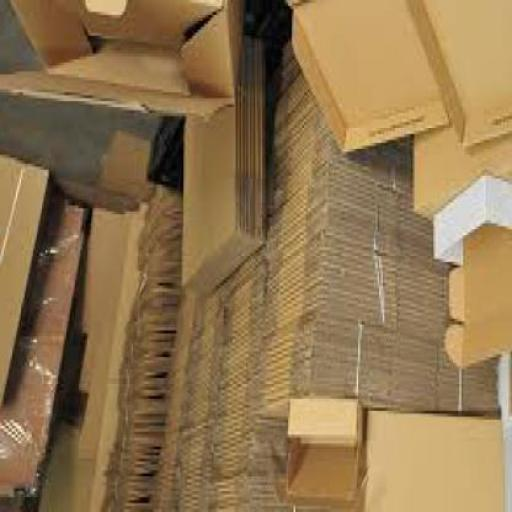cardboard: (2, 4, 247, 122), (252, 318, 502, 429), (2, 197, 90, 500), (105, 191, 182, 511), (294, 3, 452, 155), (266, 42, 416, 196), (186, 39, 267, 301), (264, 235, 451, 342), (266, 178, 437, 271), (410, 2, 511, 156), (368, 411, 507, 511), (82, 211, 136, 465), (2, 158, 52, 424), (416, 124, 511, 224), (448, 230, 512, 372), (220, 256, 264, 434), (434, 175, 511, 273), (81, 211, 120, 396), (84, 3, 222, 54), (276, 443, 370, 511), (13, 3, 94, 75), (182, 3, 236, 104), (153, 431, 213, 511), (42, 426, 93, 511), (210, 428, 290, 482), (77, 208, 106, 336), (101, 131, 150, 203), (292, 402, 363, 450), (177, 289, 222, 363), (164, 366, 220, 425), (210, 472, 296, 510)
